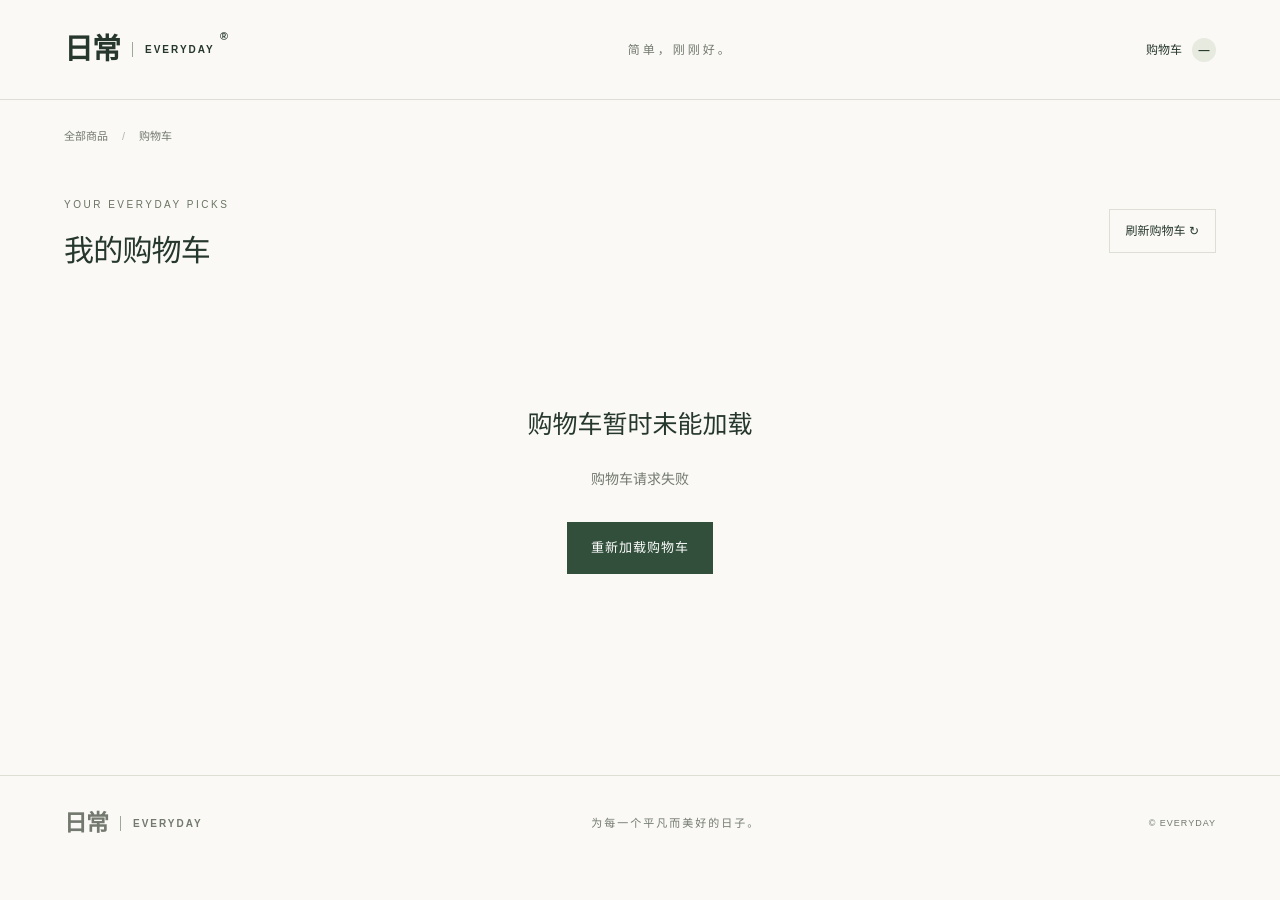
Test: supports retry after a cart failure and shows the empty-cart action
The width and height of the screenshot is (1280, 900).
Expected: the message reads "购物车请求失败", [591,471,689,487]
Click the button "重新加载购物车": (640, 548) [567,522,713,574]
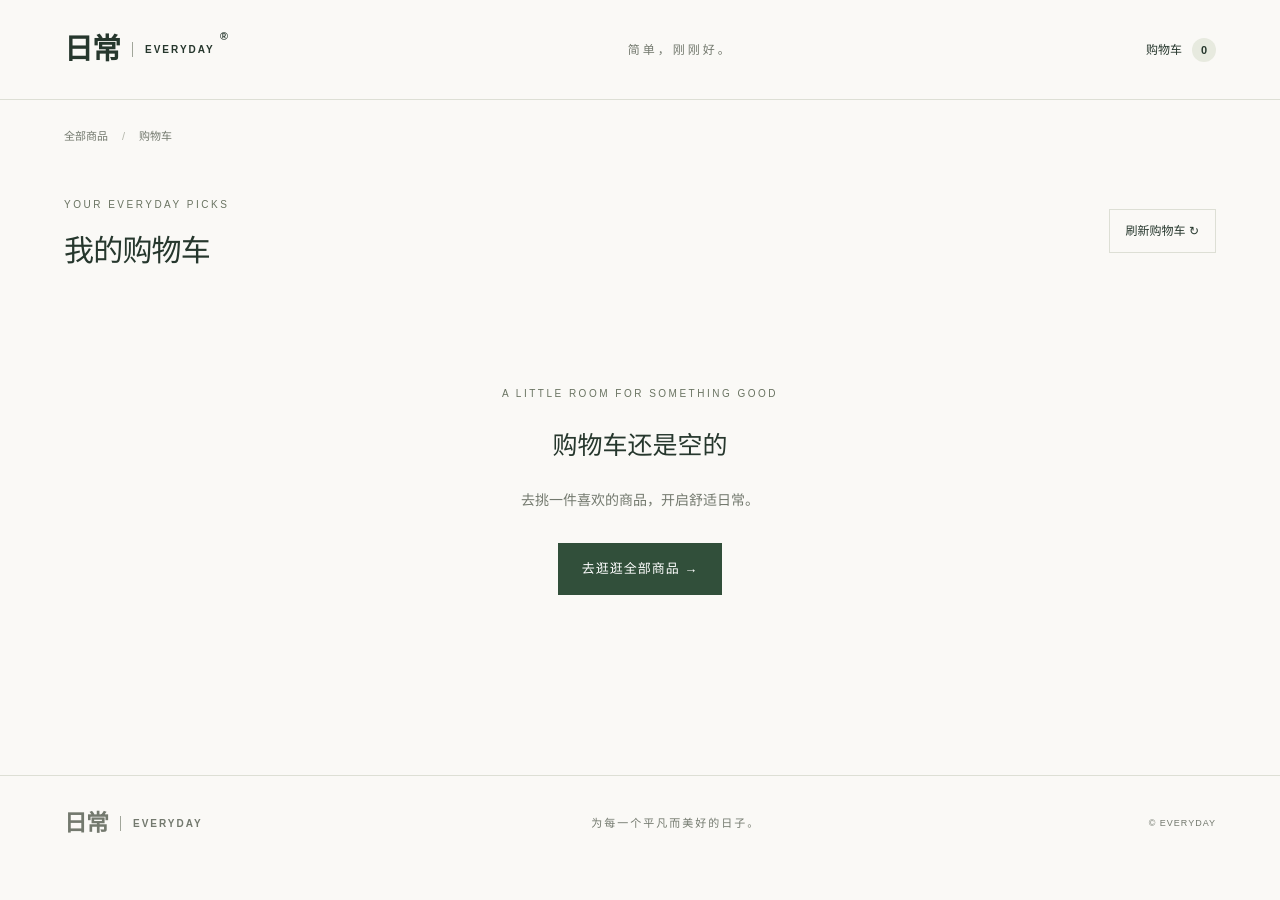
Result: the heading "购物车还是空的" is shown at [552,430,728,458]
